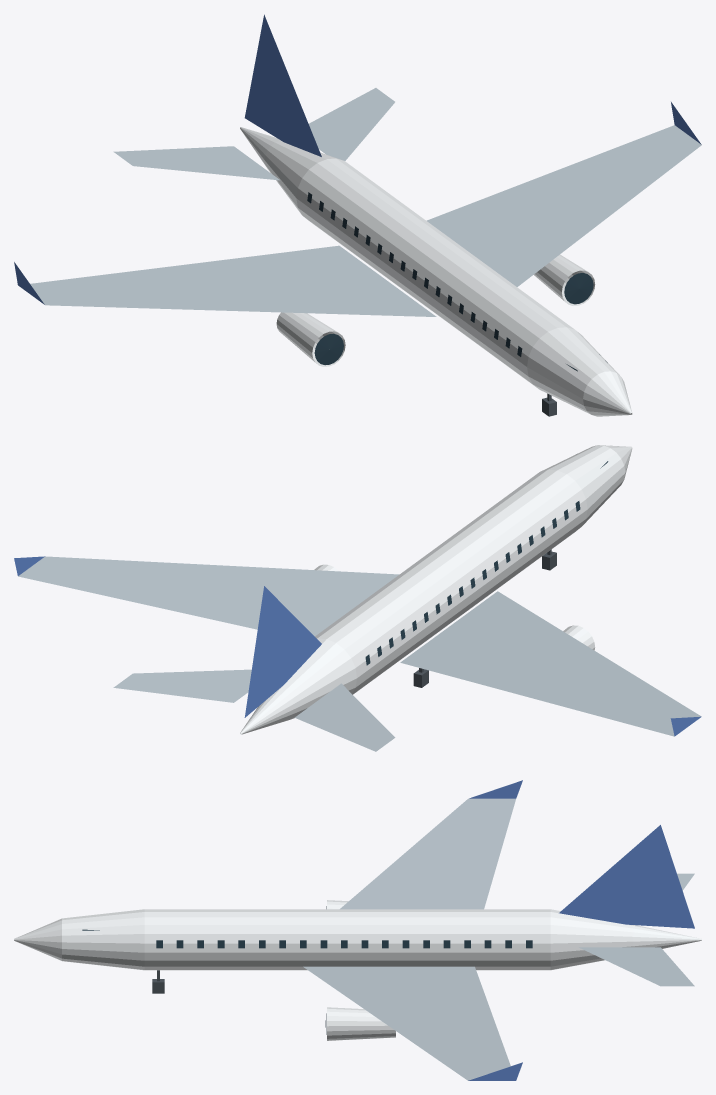
Rendered from a350-SWA.gltf.
The picture shows the model from 3 angles, top to bottom: view 1: azimuth 30°, elevation 25°; view 2: azimuth 150°, elevation 25°; view 3: azimuth 270°, elevation 25°; orthographic projection. The views are drawn at different scales.
Parts seen in each view (by area): view 1: object 1; view 2: object 1, Gear; view 3: object 1.
Boxes of the visible parts, box(x1,y1,x2,y2) form: object 1: box(14, 14, 701, 416); object 1: box(14, 445, 701, 751); Gear: box(413, 549, 556, 687); object 1: box(14, 780, 701, 1080).
Bounding box in the file's own units: 65 × 17.98 × 67.
